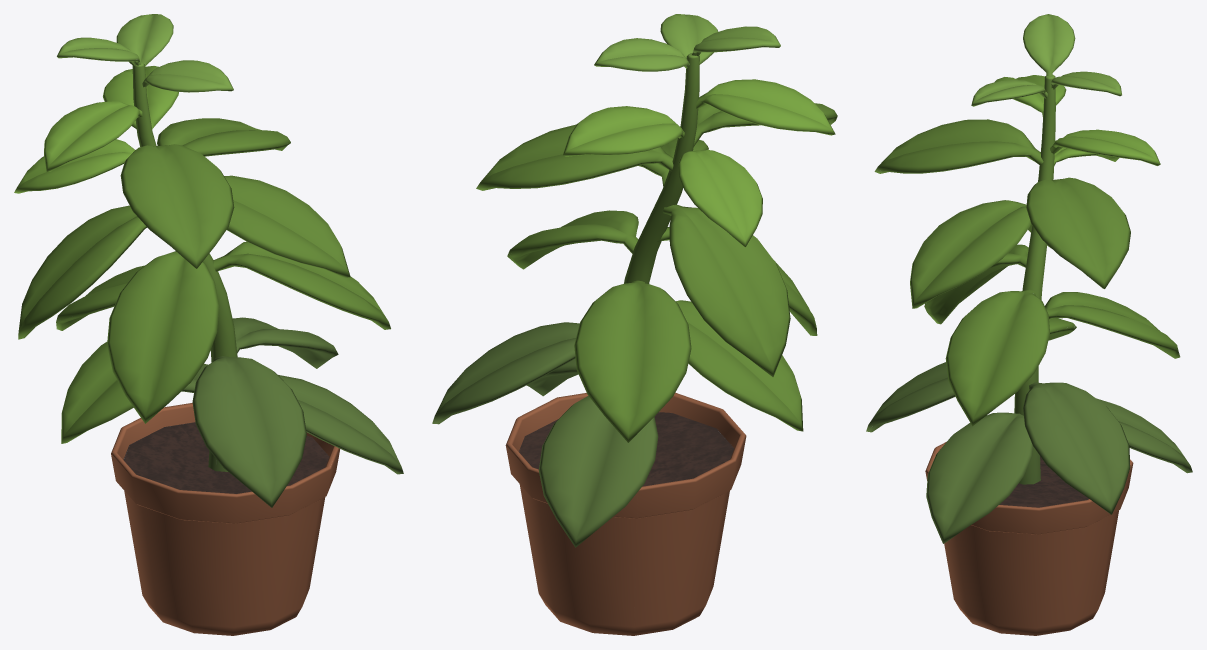
File: Tree_B.obj
3 renders of one model, left to right at view 1: azimuth 30°, elevation 25°; view 2: azimuth 150°, elevation 25°; view 3: azimuth 270°, elevation 25°, orthographic. The views are drawn at different scales.
Parts seen in each view (by area): view 1: Tree_B_LeavesSG, Tree_B_PotSG, Tree_B_sweep13SG; view 2: Tree_B_LeavesSG, Tree_B_PotSG, Tree_B_sweep13SG; view 3: Tree_B_LeavesSG, Tree_B_PotSG, Tree_B_sweep13SG.
Part boxes in pixels (<box>): Tree_B_LeavesSG: <box>14,14,403,507</box>; Tree_B_PotSG: <box>111,403,340,635</box>; Tree_B_sweep13SG: <box>132,61,237,471</box>; Tree_B_LeavesSG: <box>432,14,837,547</box>; Tree_B_PotSG: <box>505,392,746,635</box>; Tree_B_sweep13SG: <box>624,52,699,283</box>; Tree_B_LeavesSG: <box>866,14,1192,543</box>; Tree_B_PotSG: <box>925,442,1133,635</box>; Tree_B_sweep13SG: <box>1014,75,1055,484</box>.
Bounding box in the file's own units: 5.15 × 8.77 × 4.89.
Materials: 3 (3 with a texture image).
